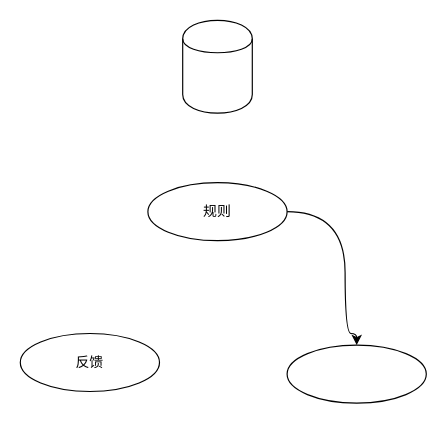
This 447x423 diagram has some shape labels left out. The shapes that lost their labels are listed below. From the top down, each one's centre as x and y in pixels, then its label:
(217,66): 数据
(356,373): 告警
